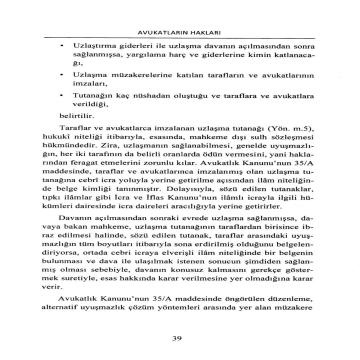header: (132, 28, 227, 36)
